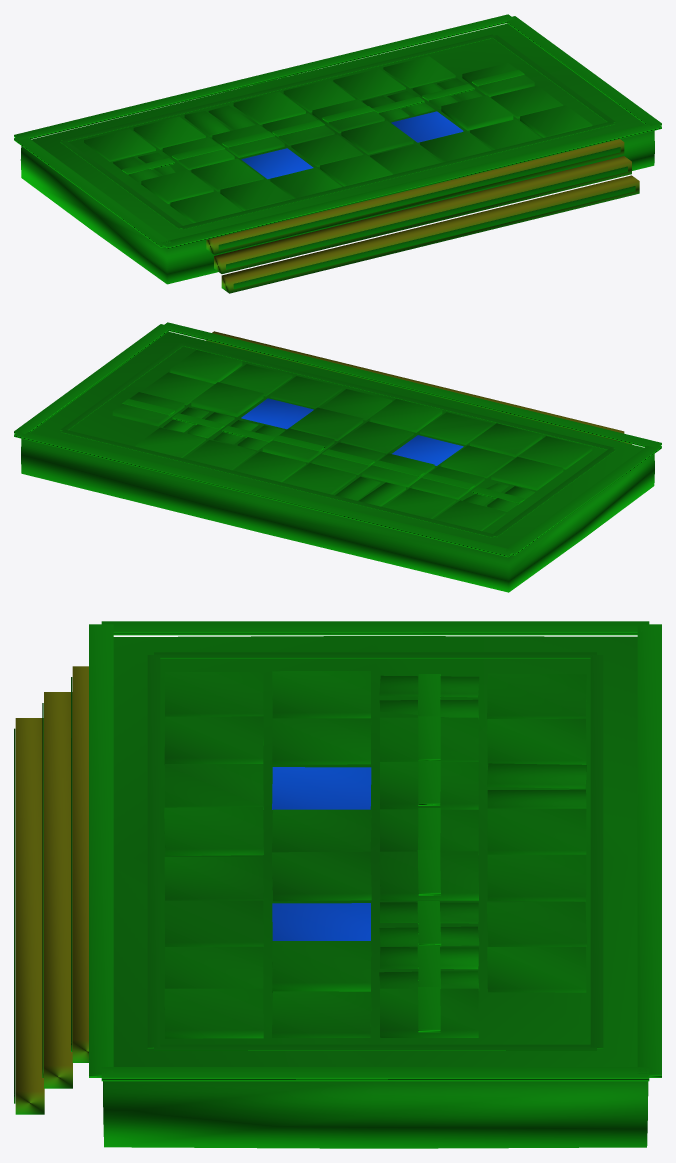
File: iskarra_plaza_rise.glb
The picture shows the model from 3 angles, top to bottom: view 1: azimuth 30°, elevation 25°; view 2: azimuth 150°, elevation 25°; view 3: azimuth 270°, elevation 25°; orthographic projection. The views are drawn at different scales.
Visible parts, largest first — view 1: iskarra_plaza_rise; view 2: iskarra_plaza_rise; view 3: iskarra_plaza_rise.
Part boxes in pixels (left/top/right/bottom): iskarra_plaza_rise: left=14, top=14, right=661, bottom=293; iskarra_plaza_rise: left=14, top=322, right=661, bottom=592; iskarra_plaza_rise: left=14, top=621, right=661, bottom=1148.
Size of what is drawn, in the model's own units: 10.23 by 0.8385 by 6.14.
